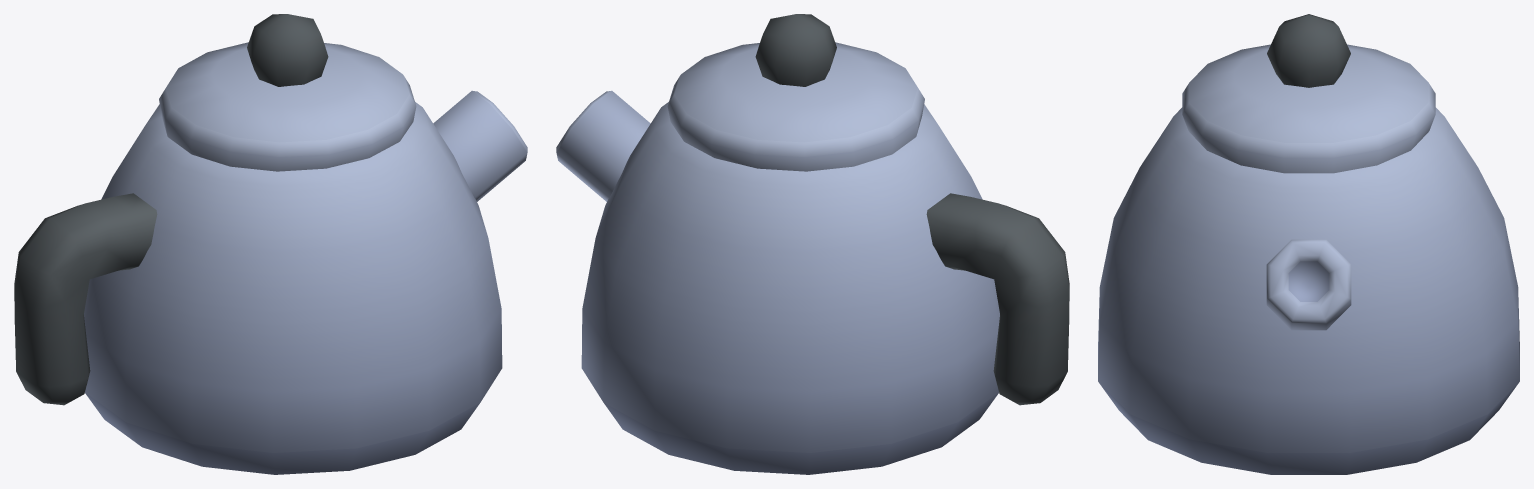
Rendered from Kettle.glb.
3 views of the same model, side by side, from view 1: azimuth 30°, elevation 25°; view 2: azimuth 150°, elevation 25°; view 3: azimuth 270°, elevation 25° (orthographic).
Parts seen in each view (by area): view 1: kettle; view 2: kettle; view 3: kettle.
Boxes of the visible parts, x1,y1,x2,y2 form: kettle: (14, 14, 527, 474); kettle: (556, 14, 1069, 474); kettle: (1098, 14, 1519, 474).
Bounding box in the file's own units: 0.8126 × 0.5952 × 0.6.
Materials: 1 (1 with a texture image).
